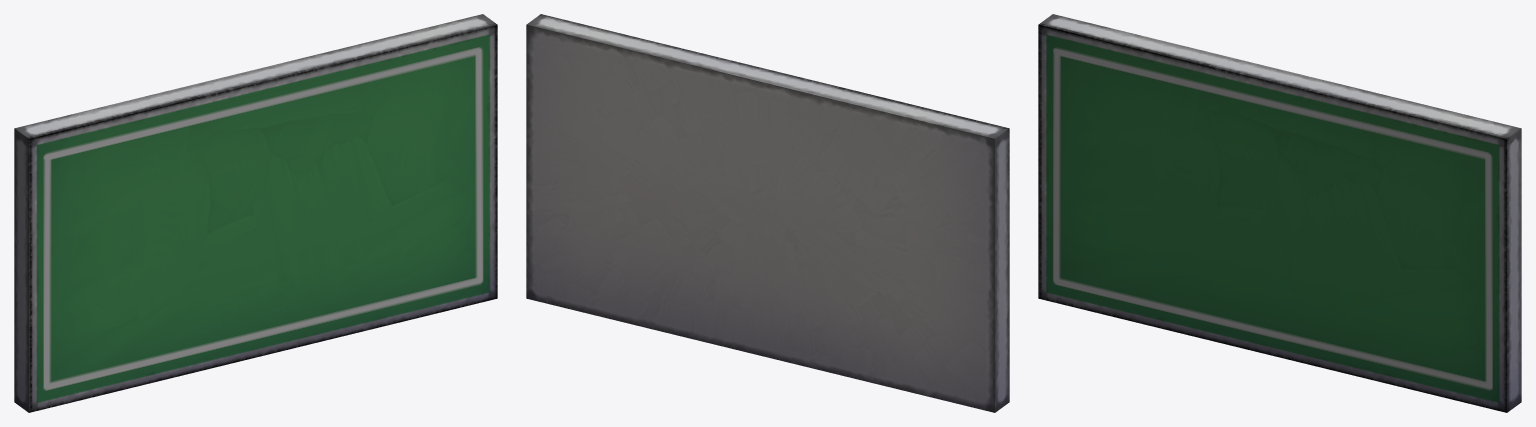
File: Sign_02.fbx
3 renders of one model, left to right at view 1: azimuth 30°, elevation 25°; view 2: azimuth 150°, elevation 25°; view 3: azimuth 330°, elevation 25°, orthographic.
Visible parts, largest first — view 1: Sign_02; view 2: Sign_02; view 3: Sign_02.
Boxes of the visible parts, x1,y1,x2,y2 form: Sign_02: (14,14,497,412); Sign_02: (526,14,1009,412); Sign_02: (1038,14,1521,412).
Bounding box in the file's own units: 1.12 × 0.6264 × 0.06.
